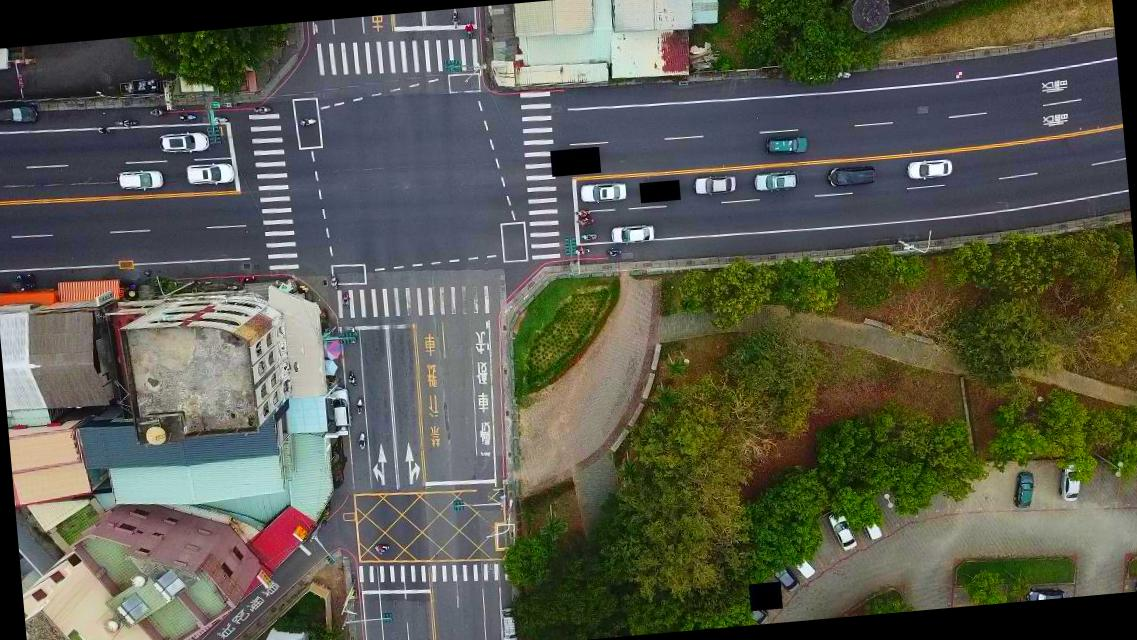vehicle: (822, 508, 858, 554), (156, 128, 211, 156), (183, 161, 234, 189), (825, 163, 876, 189), (114, 166, 163, 193), (328, 384, 354, 432), (764, 134, 810, 160), (578, 180, 627, 204), (904, 157, 953, 181), (1056, 462, 1084, 503), (750, 170, 799, 193), (691, 174, 737, 198), (609, 222, 654, 245), (1011, 471, 1037, 510), (0, 103, 38, 129), (858, 506, 884, 544), (771, 561, 799, 596), (740, 599, 768, 625), (498, 605, 519, 639), (792, 552, 815, 582), (1026, 586, 1069, 600)
